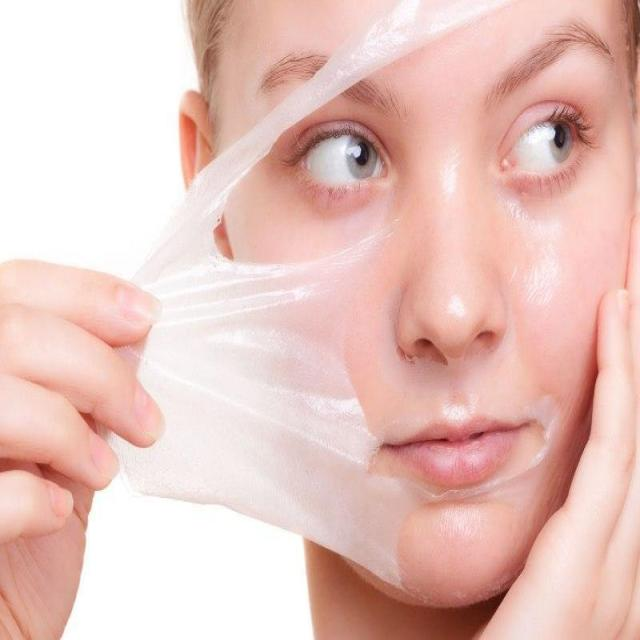Oily-Skin: (513, 200, 564, 314), (439, 141, 462, 203)
